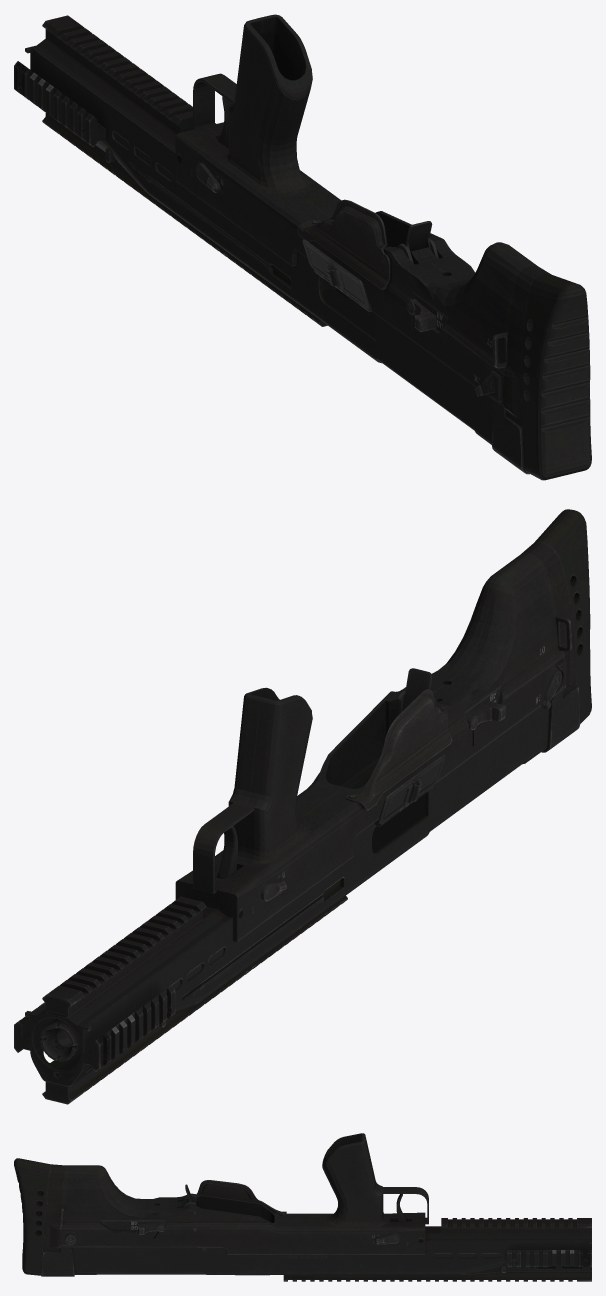
The picture shows the model from 3 angles, top to bottom: view 1: azimuth 30°, elevation 25°; view 2: azimuth 150°, elevation 25°; view 3: azimuth 270°, elevation 25°; orthographic projection. The views are drawn at different scales.
Visible parts, largest first — view 1: TW_5cadfbf7ae92152ac412eeef_PZ_Import; view 2: TW_5cadfbf7ae92152ac412eeef_PZ_Import; view 3: TW_5cadfbf7ae92152ac412eeef_PZ_Import.
Boxes of the visible parts, x1,y1,x2,y2 form: TW_5cadfbf7ae92152ac412eeef_PZ_Import: (14,14,591,480); TW_5cadfbf7ae92152ac412eeef_PZ_Import: (14,509,591,1104); TW_5cadfbf7ae92152ac412eeef_PZ_Import: (14,1133,591,1281).
Size of the model in its own units: 0.0378 by 0.376 by 0.1015.
Materials: 1 (1 with a texture image).
